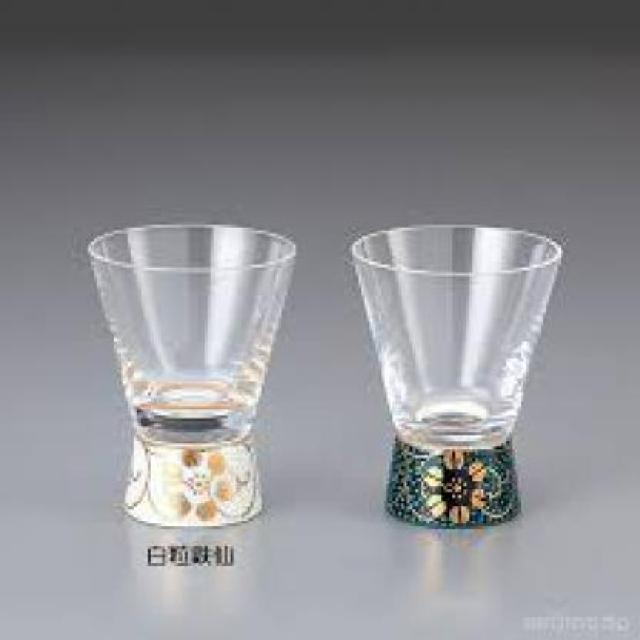kaca: (348, 222, 560, 526), (86, 220, 297, 525)
